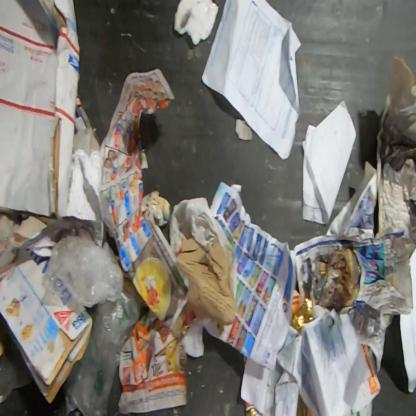cardboard: (0, 0, 80, 219), (0, 248, 93, 406), (174, 233, 236, 326)
soft_plastic: (64, 289, 140, 416), (42, 237, 124, 314), (0, 312, 32, 410), (290, 288, 314, 336), (296, 392, 312, 416), (245, 401, 259, 415)
